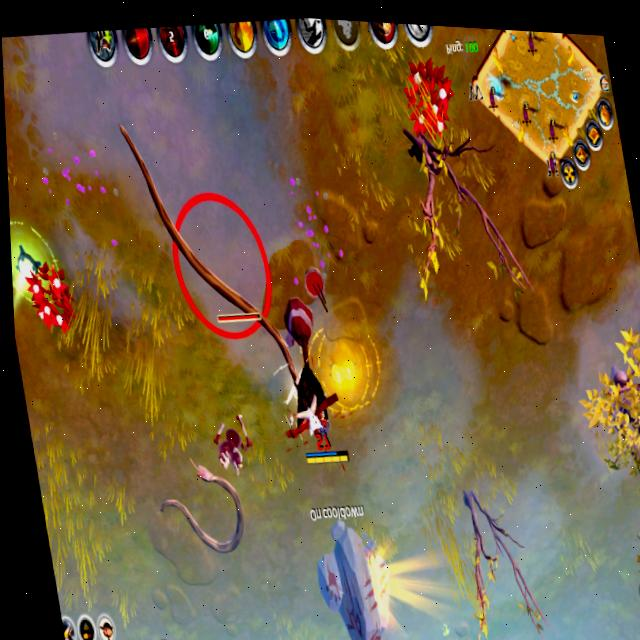hide: (391, 43, 465, 154), (15, 247, 82, 339), (303, 638, 329, 640)
ore: (110, 94, 304, 412)
red: (287, 382, 358, 479)
